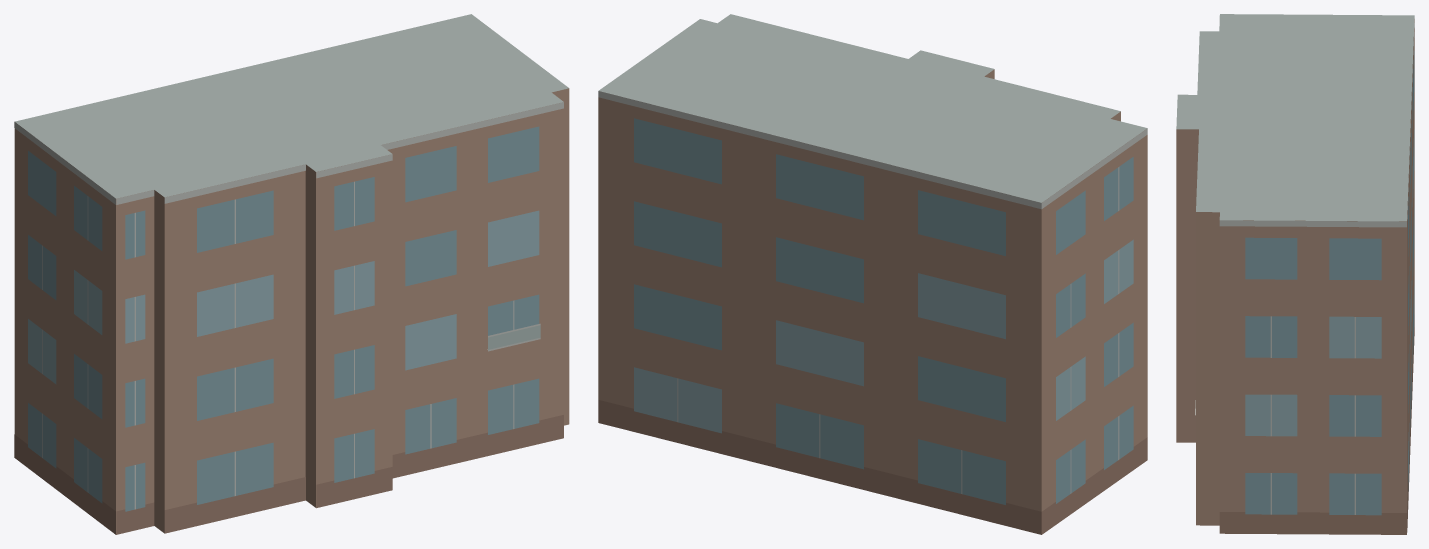
Rendered from survey-upis-32951083.glb.
The picture shows the model from 3 angles, left to right: view 1: azimuth 30°, elevation 25°; view 2: azimuth 150°, elevation 25°; view 3: azimuth 270°, elevation 25°; orthographic projection. The views are drawn at different scales.
Visible parts, largest first — view 1: survey-upis-32951083.tmp; view 2: survey-upis-32951083.tmp; view 3: survey-upis-32951083.tmp.
Part boxes in pixels (box(x1,y1,x2,y2)): survey-upis-32951083.tmp: box(14, 14, 569, 534); survey-upis-32951083.tmp: box(598, 14, 1147, 534); survey-upis-32951083.tmp: box(1176, 14, 1414, 534).
Size of the model in its own units: 18.03 by 12.7 by 8.76.
